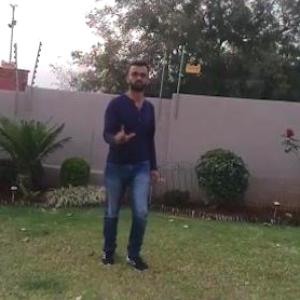land_hand: (109, 118, 138, 146)
